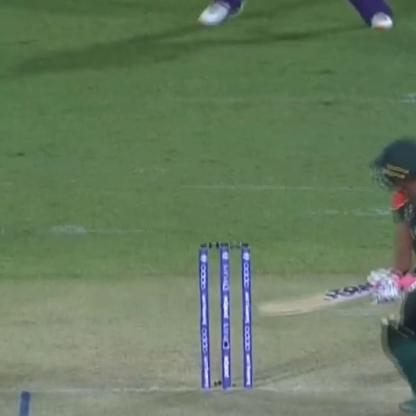bat: (247, 281, 408, 316)
